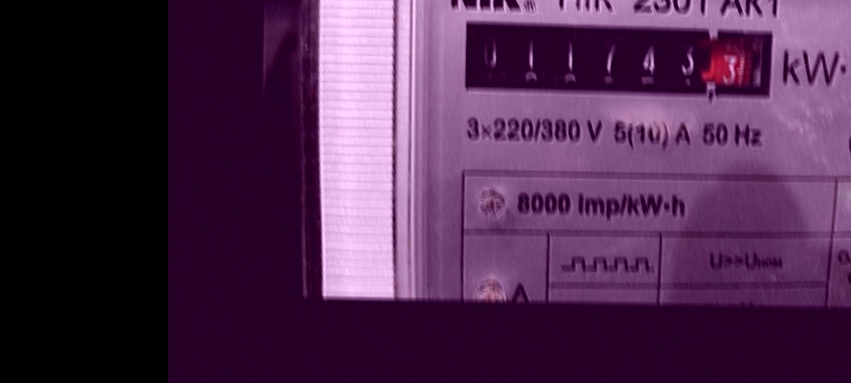0: (481, 34, 501, 71)
1: (564, 37, 580, 71), (527, 36, 538, 69)
3: (678, 42, 698, 77), (722, 55, 740, 88)
4: (641, 41, 659, 76)
7: (602, 40, 621, 74)
screen: (451, 11, 787, 111)
